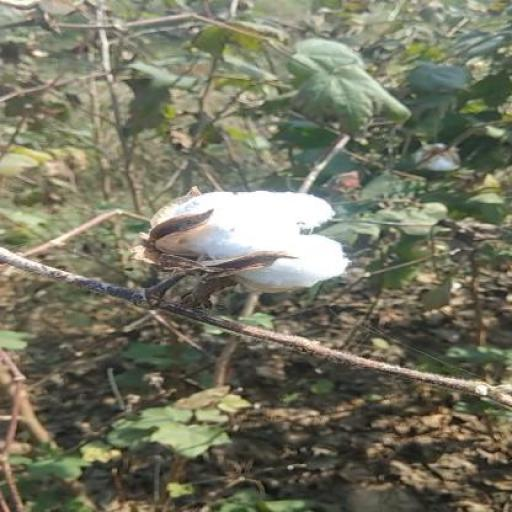cotton_ready: (118, 165, 364, 345)
